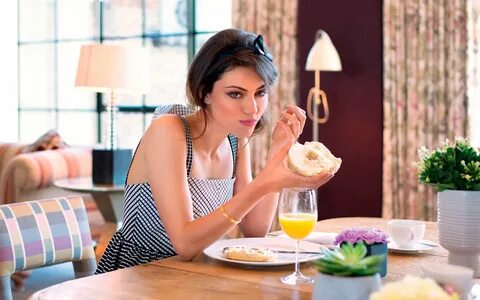awake: (113, 28, 306, 263)
